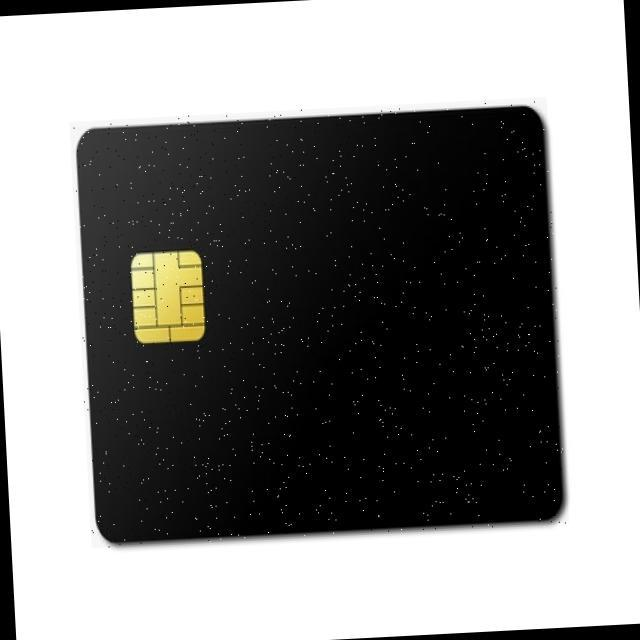payment_card: (74, 104, 564, 543)
